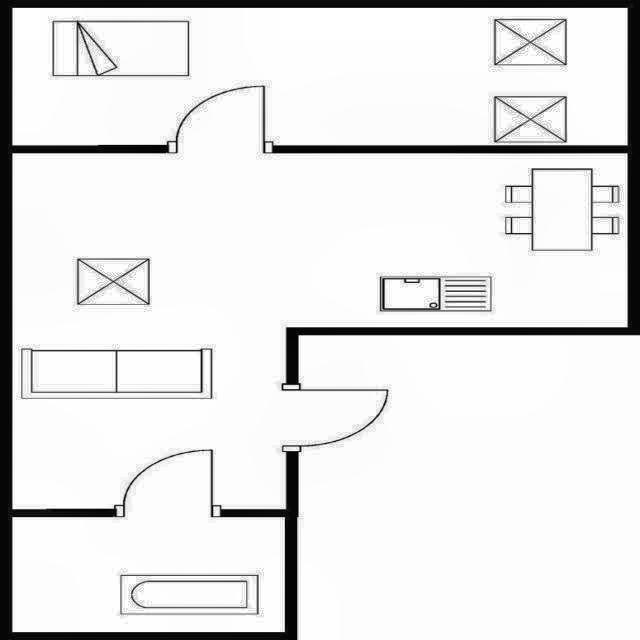room: (12, 153, 629, 509), (13, 8, 628, 145), (13, 517, 286, 631)
